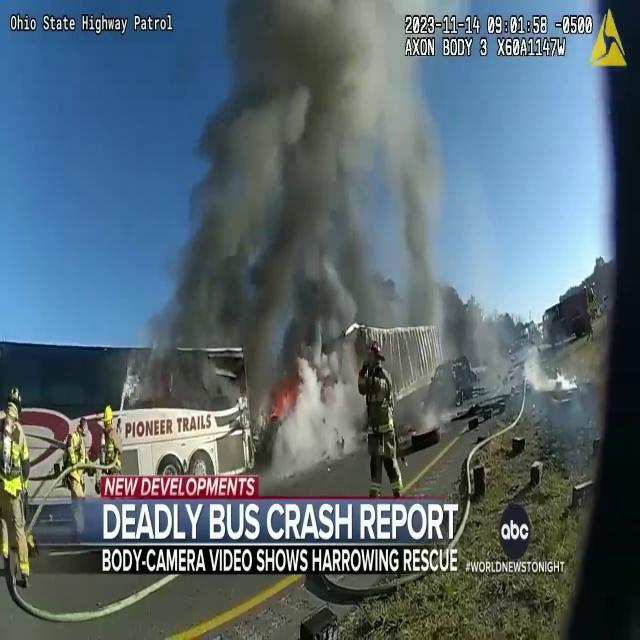Smoke: (134, 1, 450, 426)
